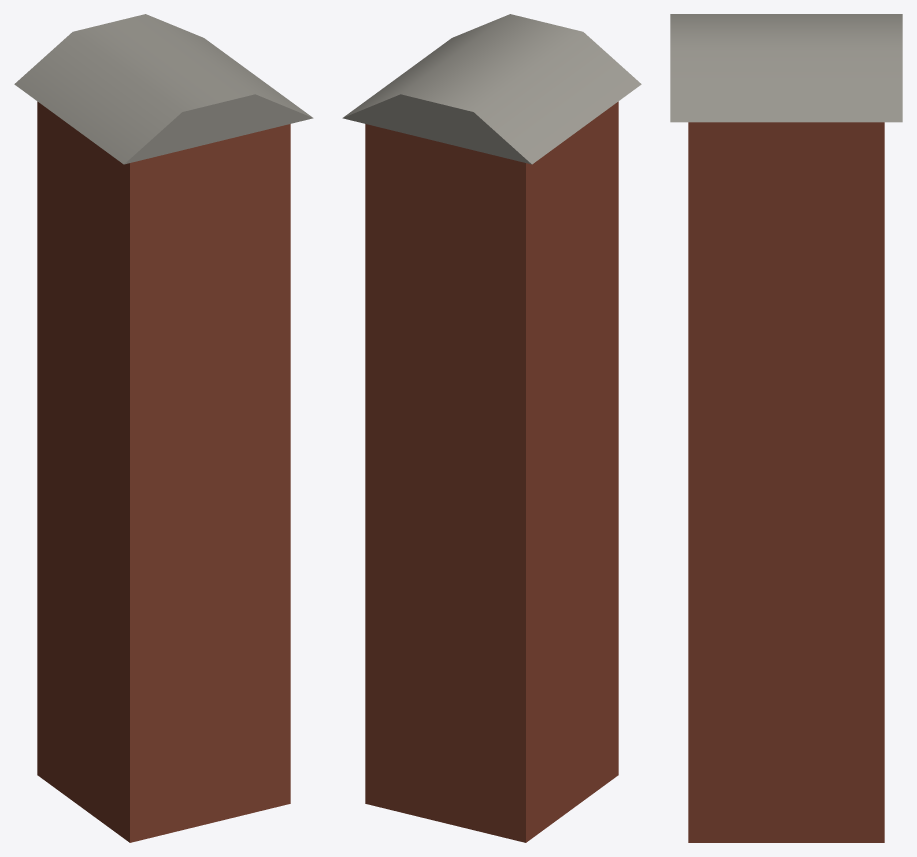
File: boundary.post.pier_1800.glb
The picture shows the model from 3 angles, left to right: view 1: azimuth 30°, elevation 25°; view 2: azimuth 150°, elevation 25°; view 3: azimuth 270°, elevation 25°; orthographic projection. The views are drawn at different scales.
Visible parts, largest first — view 1: main__brick, main__concrete; view 2: main__brick, main__concrete; view 3: main__brick, main__concrete.
Boxes of the visible parts, left/top/right/bottom form: main__brick: left=37, top=101, right=290, bottom=842; main__concrete: left=14, top=14, right=313, bottom=164; main__brick: left=365, top=101, right=618, bottom=842; main__concrete: left=342, top=14, right=641, bottom=164; main__brick: left=688, top=122, right=884, bottom=842; main__concrete: left=670, top=14, right=902, bottom=122.
Size of the model in its own units: 0.52 by 1.9 by 0.52.
